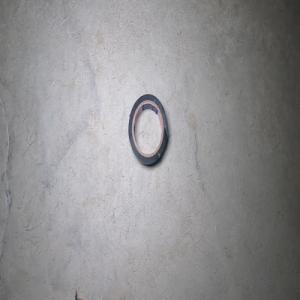Tape: (128, 93, 168, 166)
